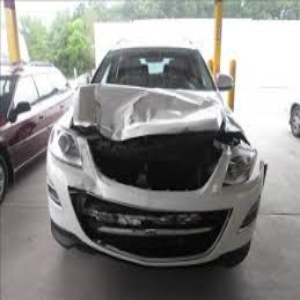bonnet: (74, 76, 229, 142)
